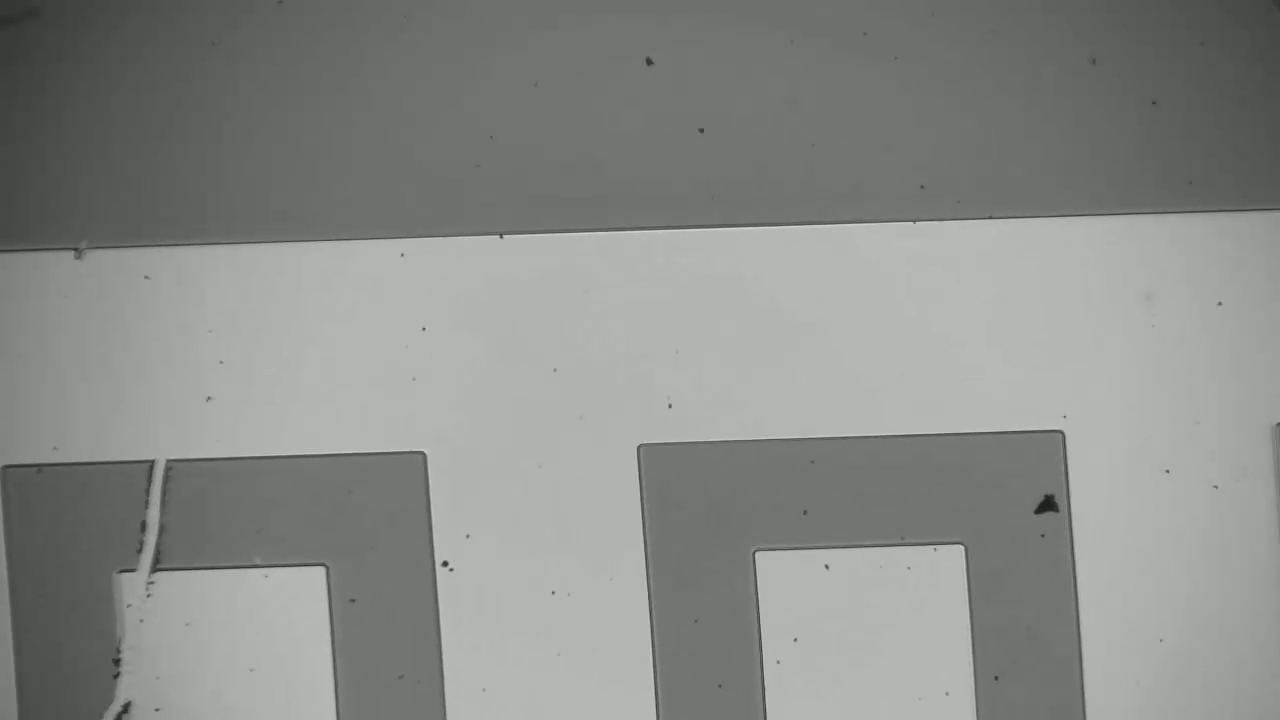Short_circuit: (97, 440, 199, 597)
